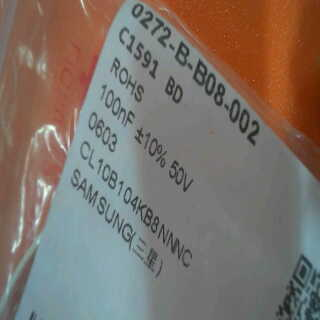100nF: (86, 79, 134, 130)
